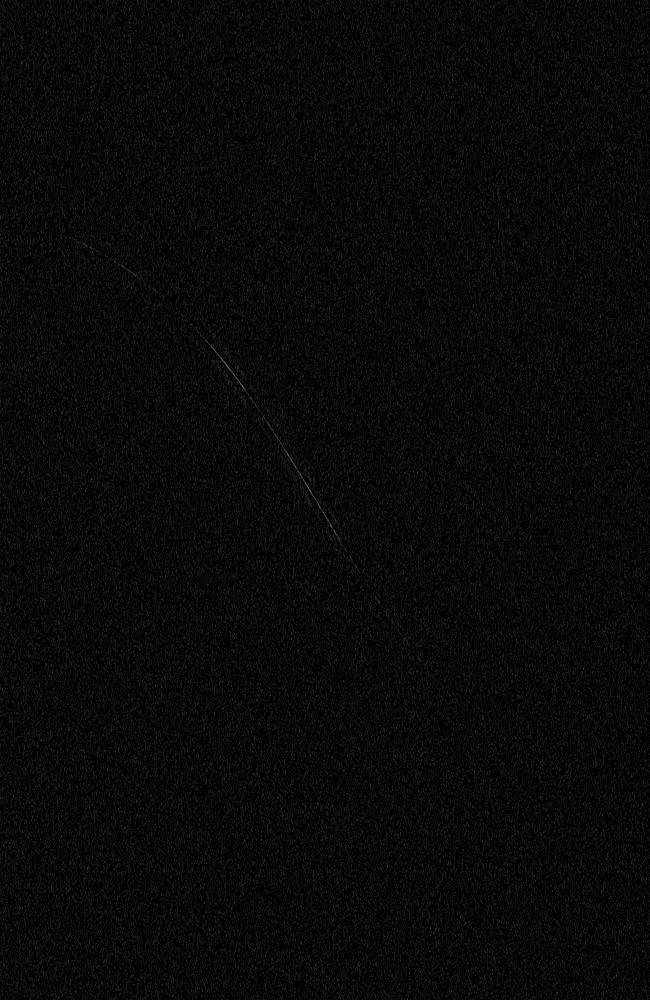signal: (0, 0, 649, 999)
